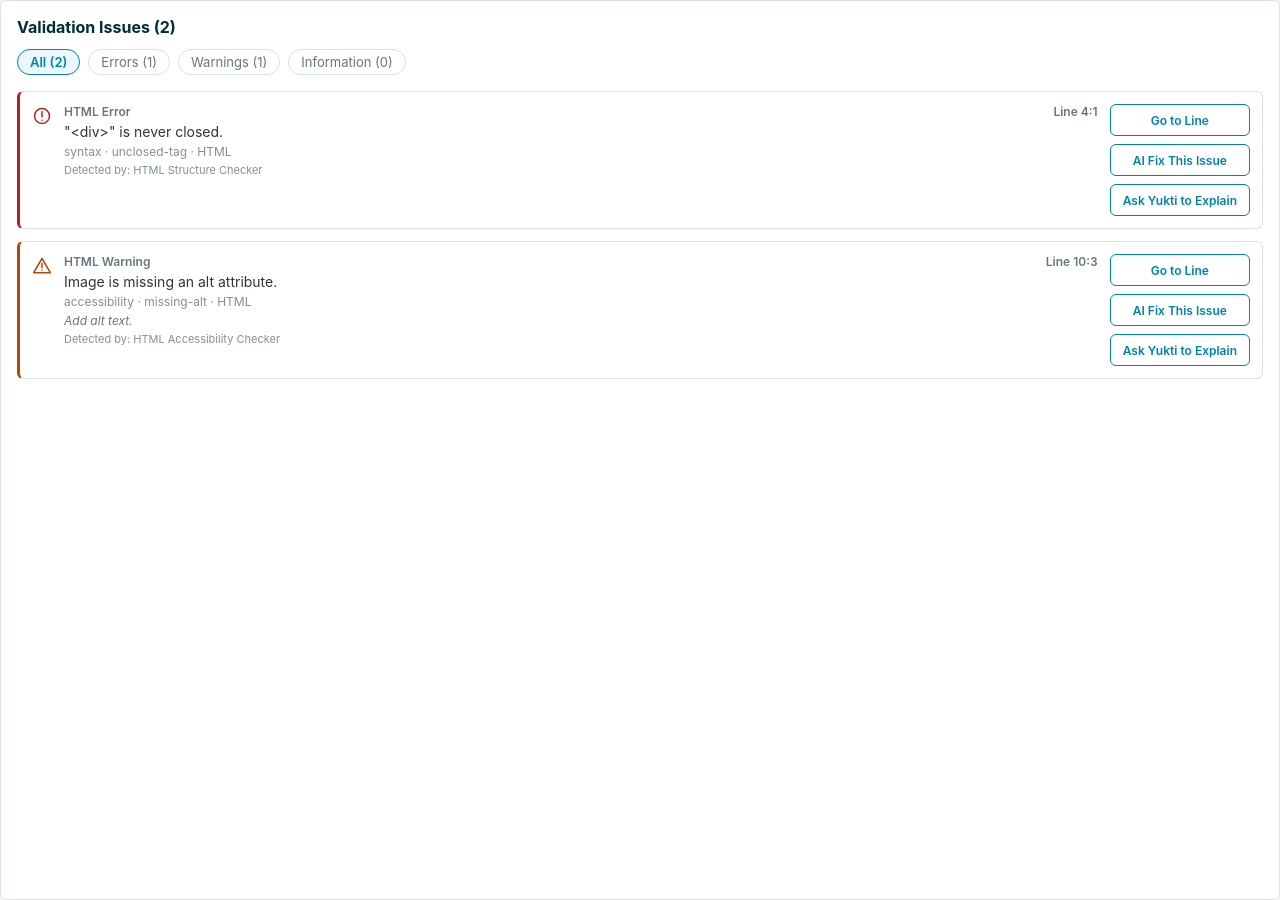
Scenario: ValidationIssuesPanel › filters issues by severity
Click the tab "Errors (1)" at x=129, y=62, box [88,49,170,75]
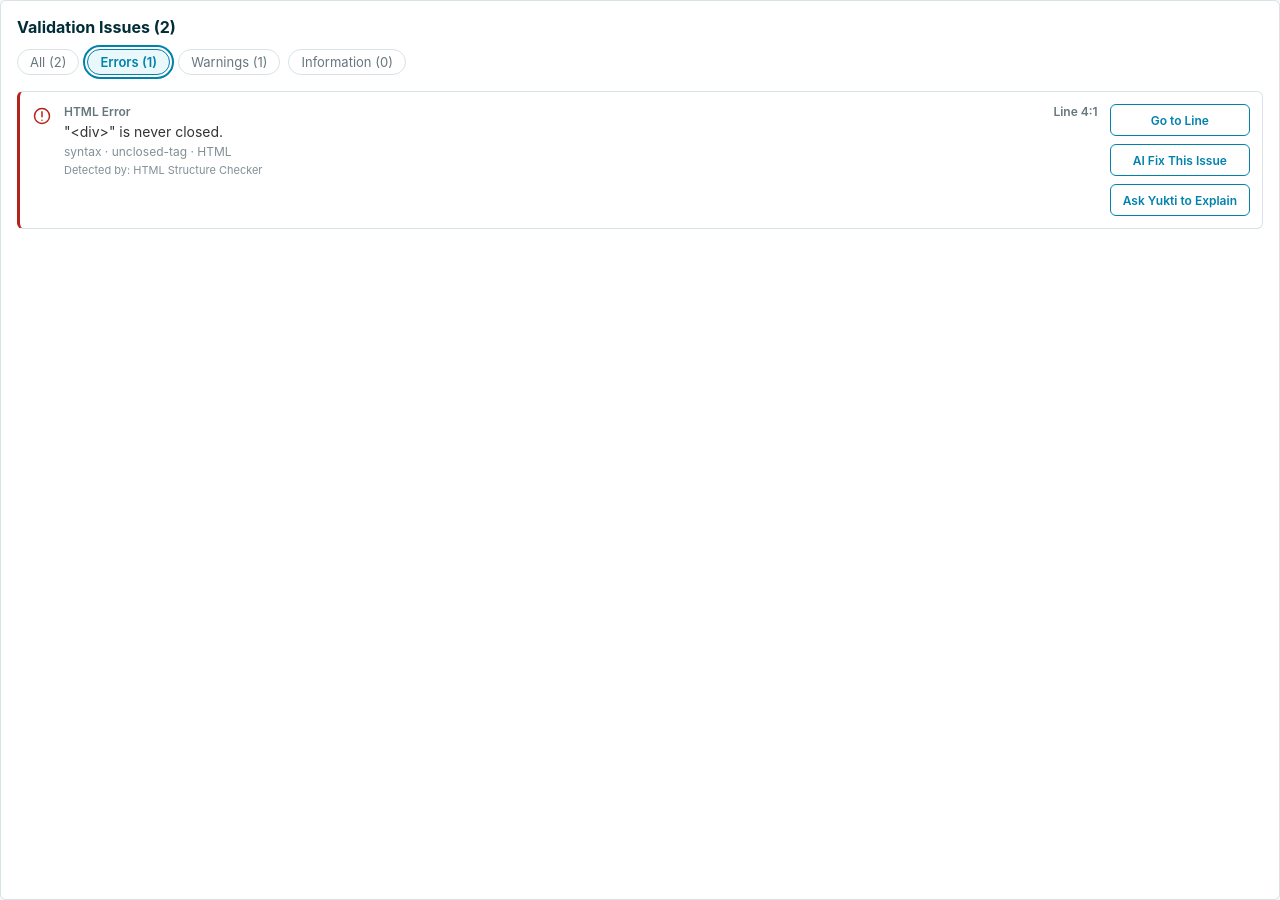
Expected: the text "\"<div>\" is never closed." is shown, [64,123,223,140]
Expected: the number of list items is 1, [17,91,1263,229]
